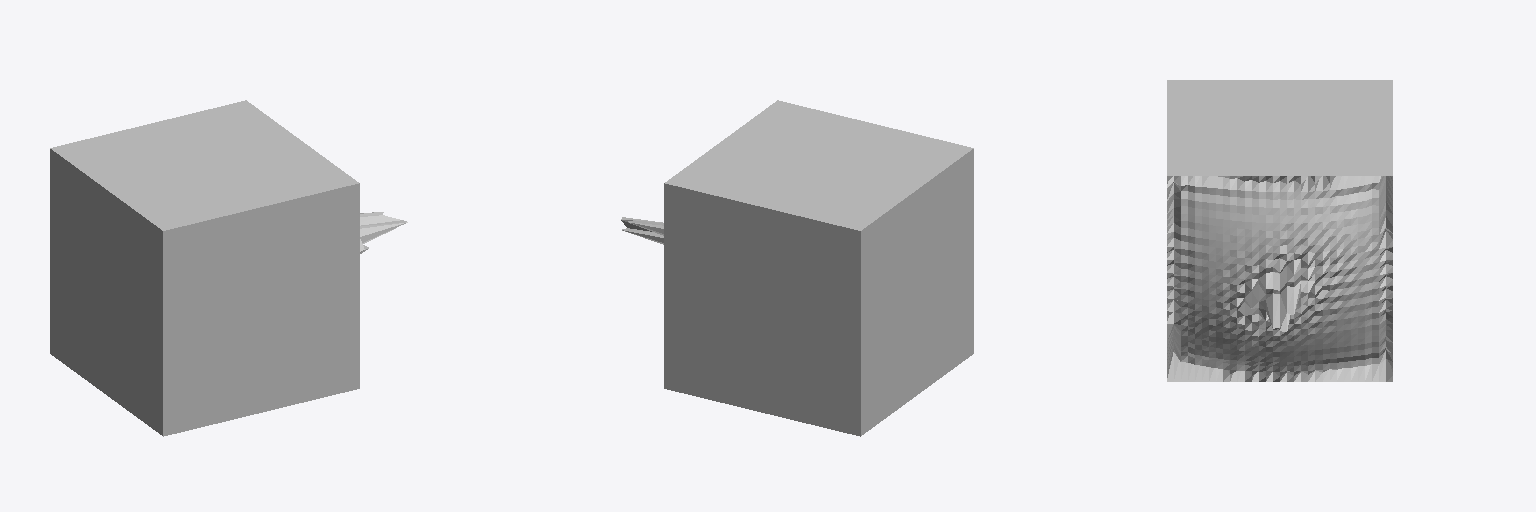
The model's file is optimize_result_2.obj.
3 views of the same model, side by side, from view 1: azimuth 30°, elevation 25°; view 2: azimuth 150°, elevation 25°; view 3: azimuth 270°, elevation 25° (orthographic).
Parts seen in each view (by area): view 1: Cube_Cube.001; view 2: Cube_Cube.001; view 3: Cube_Cube.001.
Boxes of the visible parts, box(x1,y1,x2,y2) form: Cube_Cube.001: box(50, 100, 407, 436); Cube_Cube.001: box(621, 100, 973, 436); Cube_Cube.001: box(1167, 80, 1392, 381).
Bounding box in the file's own units: 15.21 × 10 × 10.